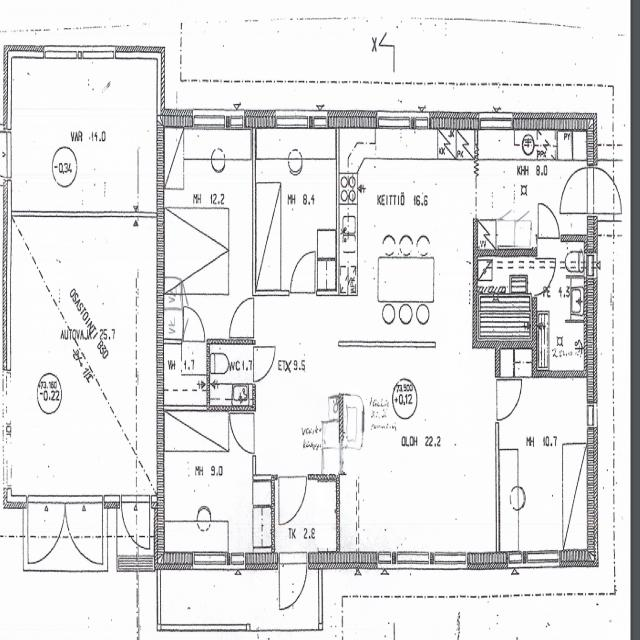door: (28, 496, 65, 573), (65, 496, 102, 573), (279, 551, 307, 617), (122, 496, 150, 558), (560, 167, 597, 213), (587, 167, 624, 213), (279, 475, 306, 527), (290, 247, 315, 296), (228, 413, 256, 454), (495, 380, 523, 420), (229, 298, 256, 337), (532, 258, 558, 295), (252, 346, 277, 382), (538, 200, 559, 241), (184, 304, 204, 346), (0, 132, 12, 177)
